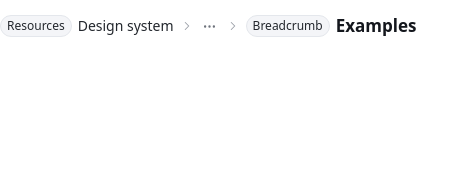
Test: Breadcrumb › moves middle pairs into a keyboard-accessible menu after four levels
The image size is (473, 172).
Expected: the link "Components" is not shown
Expected: the link "Navigation" is not shown
Click the button named "Show hidden breadcrumb levels".
click(210, 26)  # box left=200, top=16, right=220, bottom=36
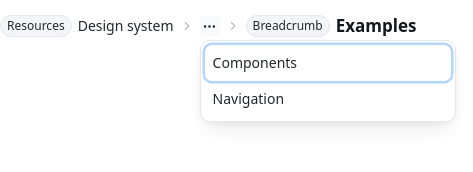
Expected: the menu named "Hidden breadcrumb levels" is shown, left=200, top=40, right=456, bottom=122
Press Arrowdown
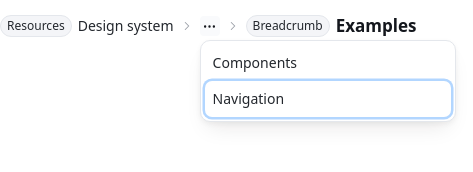
Press Escape
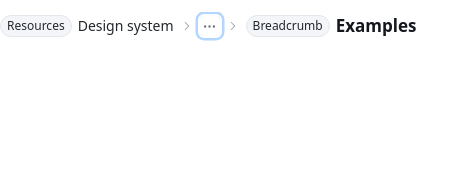
Expected: the menu is gone
